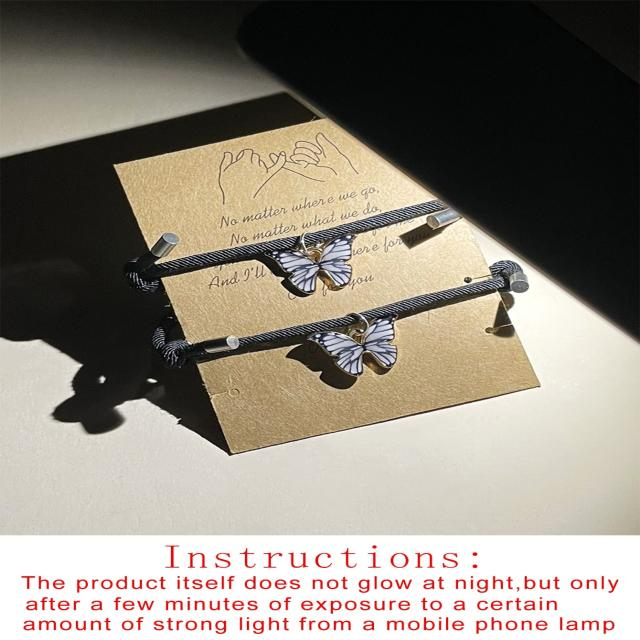bracelet: (54, 122, 577, 440)
